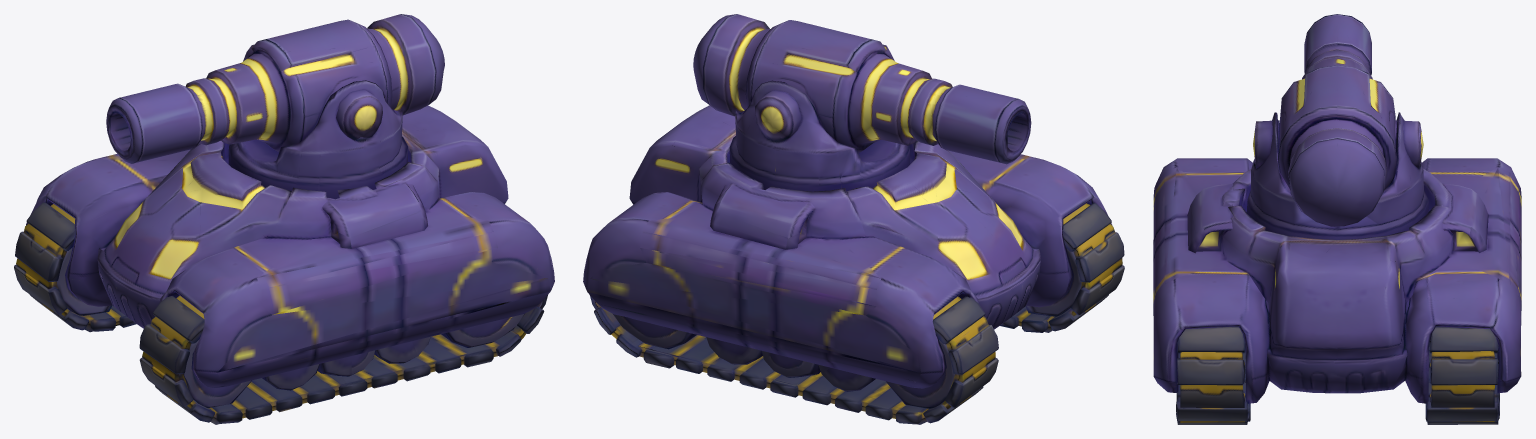
Rendered from enemy_heavy_tank.glb.
3 renders of one model, left to right at view 1: azimuth 30°, elevation 25°; view 2: azimuth 150°, elevation 25°; view 3: azimuth 270°, elevation 25°, orthographic.
Visible parts, largest first — view 1: geometry_0; view 2: geometry_0; view 3: geometry_0.
Part boxes in pixels (box(x1,y1,x2,y2)): geometry_0: box(14, 14, 554, 424); geometry_0: box(583, 14, 1124, 424); geometry_0: box(1153, 14, 1521, 424).
Bounding box in the file's own units: 0.9551 × 0.6826 × 0.7842.
1 material, 1 textured.
